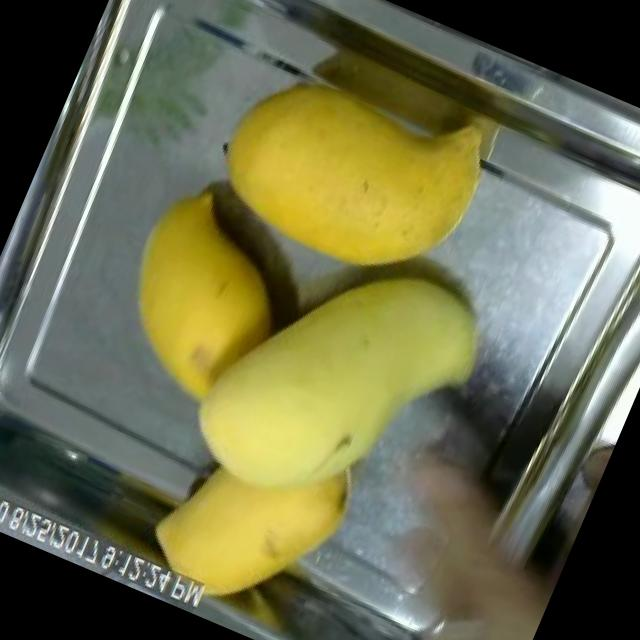fruit: (157, 192, 522, 570), (185, 22, 518, 321), (78, 162, 328, 438), (379, 512, 566, 640)
